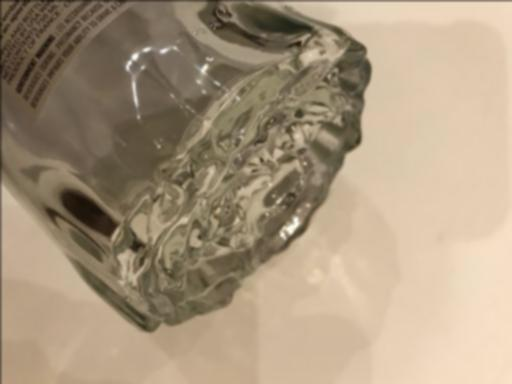glass: (1, 1, 372, 334)
sodocalcique: (1, 1, 372, 334)
